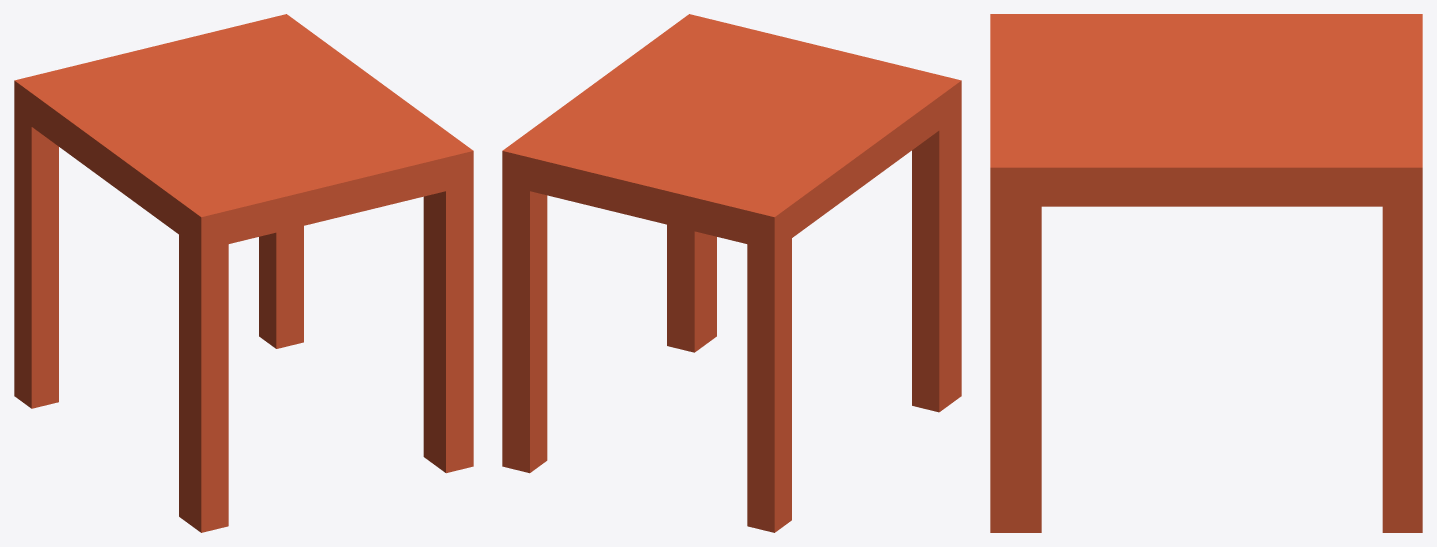
The model's file is Tables.fbx.
3 renders of one model, left to right at view 1: azimuth 30°, elevation 25°; view 2: azimuth 150°, elevation 25°; view 3: azimuth 270°, elevation 25°, orthographic. The views are drawn at different scales.
Parts seen in each view (by area): view 1: Cube.001; view 2: Cube.001; view 3: Cube.001.
Part boxes in pixels (box(x1,y1,x2,y2)): Cube.001: box(14, 14, 473, 532); Cube.001: box(502, 14, 961, 532); Cube.001: box(990, 14, 1422, 532).
Size of the model in its own units: 812 by 899 by 965.
